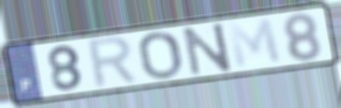8: (281, 11, 325, 63), (46, 43, 86, 92)
M: (225, 16, 285, 71)
N: (180, 20, 235, 78)
O: (136, 30, 185, 81)
R: (86, 34, 142, 92)
